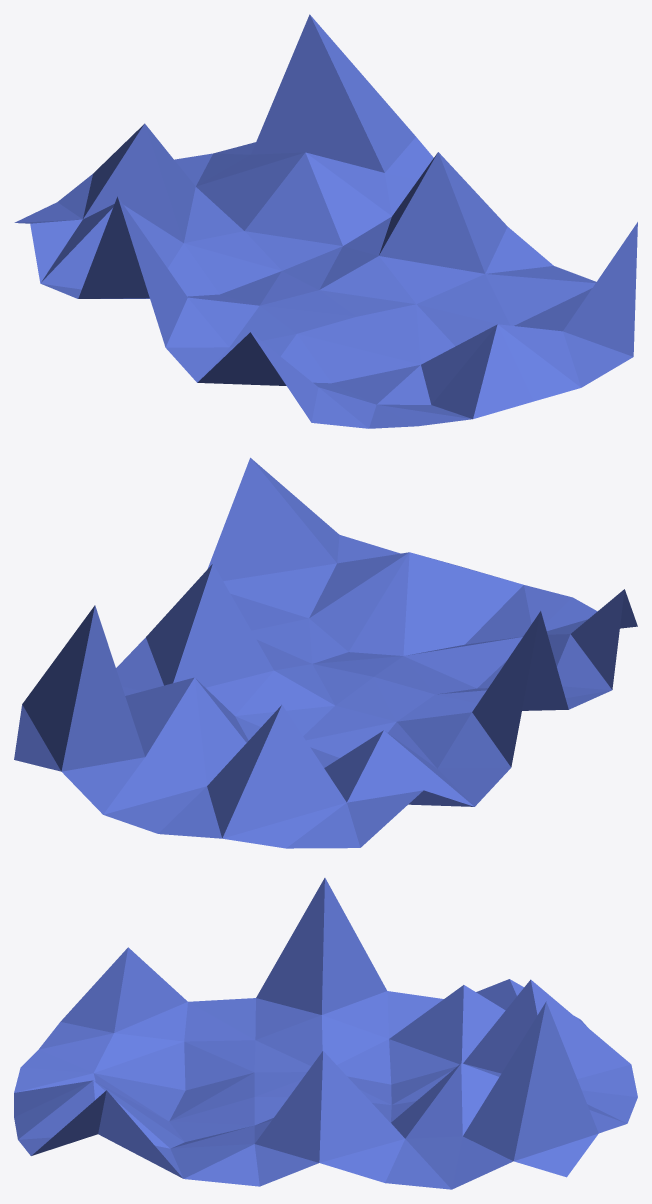
The model's file is deepsea.fbx.
The picture shows the model from 3 angles, top to bottom: view 1: azimuth 30°, elevation 25°; view 2: azimuth 150°, elevation 25°; view 3: azimuth 270°, elevation 25°; orthographic projection. The views are drawn at different scales.
Parts seen in each view (by area): view 1: deepsea; view 2: deepsea; view 3: deepsea.
Boxes of the visible parts, left/top/right/bottom form: deepsea: left=14, top=14, right=637, bottom=428; deepsea: left=14, top=457, right=637, bottom=848; deepsea: left=14, top=878, right=637, bottom=1189.
Bounding box in the file's own units: 192 × 81.88 × 272.
